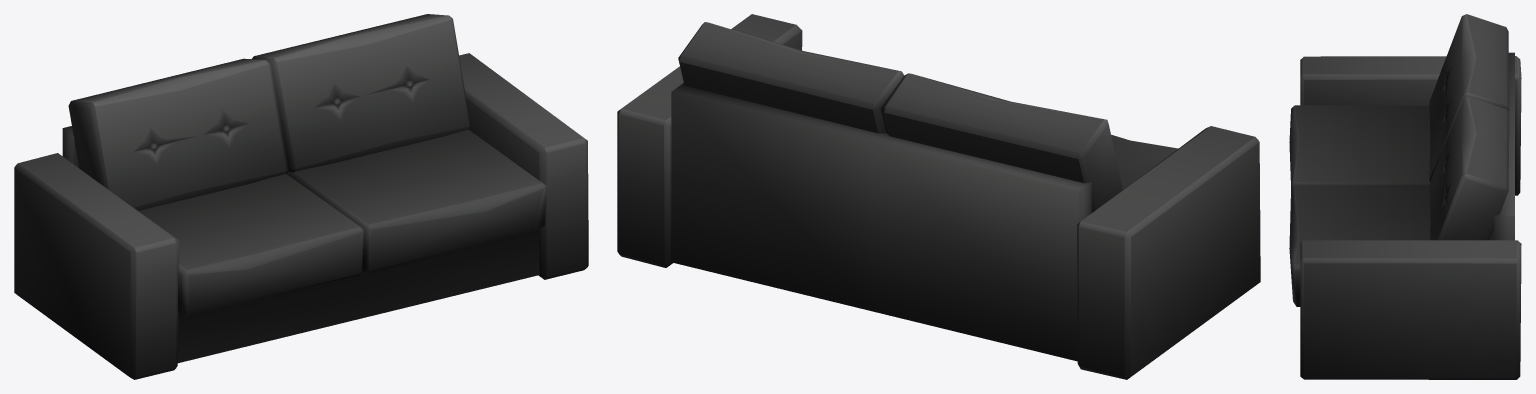
The model's file is TSP_Couch_02B.fbx.
3 views of the same model, side by side, from view 1: azimuth 30°, elevation 25°; view 2: azimuth 150°, elevation 25°; view 3: azimuth 270°, elevation 25° (orthographic). The views are drawn at different scales.
Parts seen in each view (by area): view 1: TSP_Couch_02B; view 2: TSP_Couch_02B; view 3: TSP_Couch_02B.
Boxes of the visible parts, left/top/right/bottom form: TSP_Couch_02B: left=14, top=14, right=588, bottom=379; TSP_Couch_02B: left=617, top=14, right=1260, bottom=379; TSP_Couch_02B: left=1289, top=14, right=1521, bottom=379.
Bounding box in the file's own units: 2.6 × 1.09 × 1.24.
